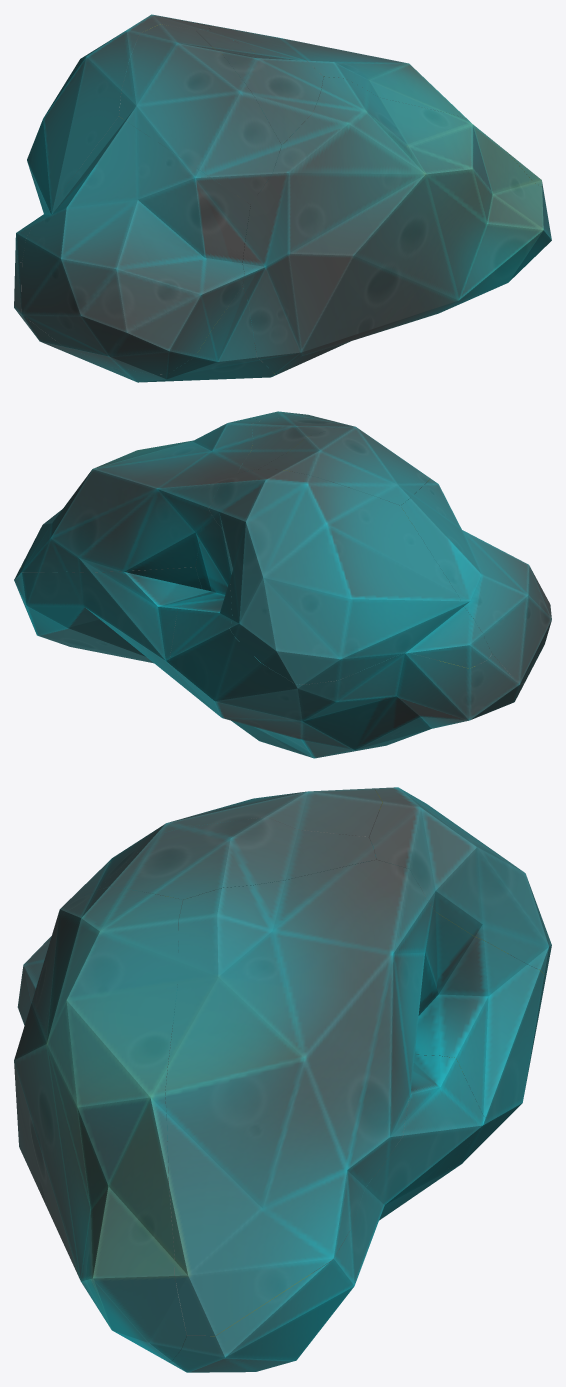
File: diamondFract2.fbx
3 views of the same model, one above another, from view 1: azimuth 30°, elevation 25°; view 2: azimuth 150°, elevation 25°; view 3: azimuth 270°, elevation 25° (orthographic). The views are drawn at different scales.
Parts seen in each view (by area): view 1: DiamondAster_cell.008, DiamondAster_cell.002, DiamondAster_cell.007, DiamondAster_cell.001, DiamondAster_cell, DiamondAster_cell.006, DiamondAster_cell.005; view 2: DiamondAster_cell.001, DiamondAster_cell.006, DiamondAster_cell, DiamondAster_cell.004, DiamondAster_cell.002, DiamondAster_cell.007, DiamondAster_cell.005; view 3: DiamondAster_cell, DiamondAster_cell.008, DiamondAster_cell.004, DiamondAster_cell.006, DiamondAster_cell.001, DiamondAster_cell.005, DiamondAster_cell.007, DiamondAster_cell.002.
Boxes of the visible parts, <box> form: DiamondAster_cell.008: <box>242,77,551,373</box>; DiamondAster_cell.002: <box>21,116,250,374</box>; DiamondAster_cell.007: <box>119,24,281,204</box>; DiamondAster_cell.001: <box>15,14,210,262</box>; DiamondAster_cell: <box>206,24,544,194</box>; DiamondAster_cell.006: <box>14,213,279,382</box>; DiamondAster_cell.005: <box>196,29,323,144</box>; DiamondAster_cell.001: <box>208,469,491,684</box>; DiamondAster_cell.006: <box>169,510,524,758</box>; DiamondAster_cell: <box>21,419,261,572</box>; DiamondAster_cell.004: <box>14,566,245,730</box>; DiamondAster_cell.002: <box>401,478,551,684</box>; DiamondAster_cell.007: <box>259,425,430,505</box>; DiamondAster_cell.005: <box>238,417,348,472</box>; DiamondAster_cell: <box>165,860,428,1335</box>; DiamondAster_cell.008: <box>14,886,186,1361</box>; DiamondAster_cell.004: <box>168,1054,485,1372</box>; DiamondAster_cell.006: <box>399,904,544,1206</box>; DiamondAster_cell.001: <box>369,787,551,982</box>; DiamondAster_cell.005: <box>97,817,376,899</box>; DiamondAster_cell.007: <box>69,788,382,900</box>; DiamondAster_cell.002: <box>17,855,116,1025</box>.
Bounding box in the file's own units: 808 × 474 × 515.
Materials: 1 (1 with a texture image).
